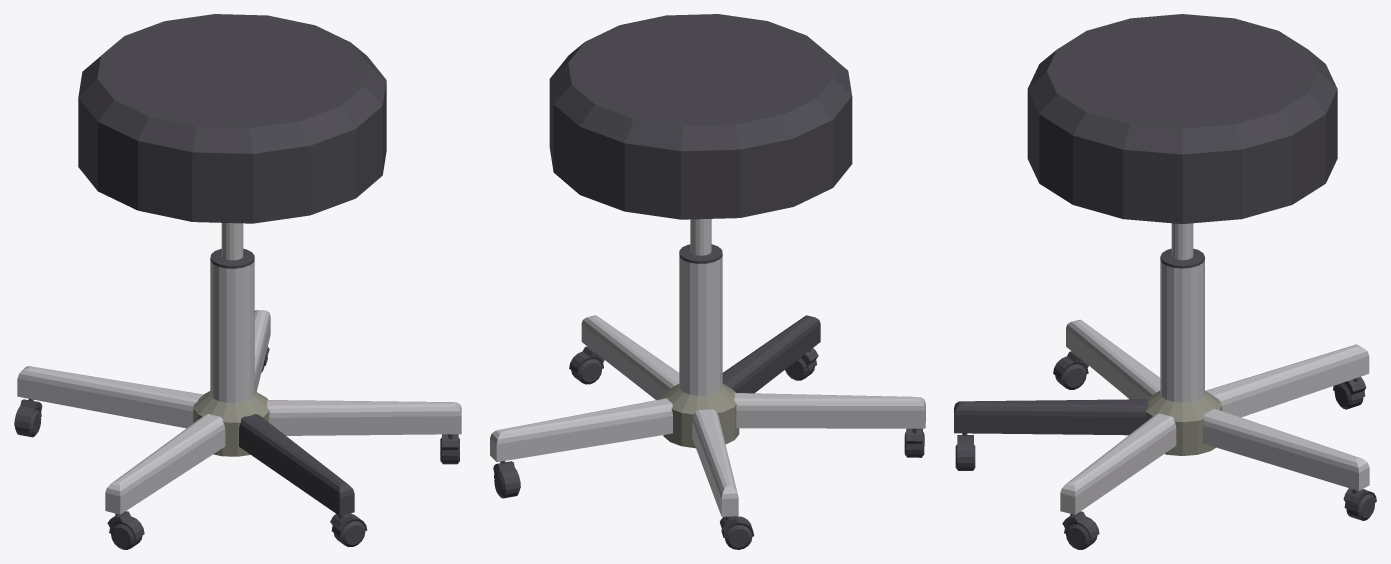
File: DoctorsStool.fbx
3 views of the same model, side by side, from view 1: azimuth 30°, elevation 25°; view 2: azimuth 150°, elevation 25°; view 3: azimuth 270°, elevation 25° (orthographic).
Parts seen in each view (by area): view 1: Cylinder; view 2: Cylinder; view 3: Cylinder.
Boxes of the visible parts, x1,y1,x2,y2 form: Cylinder: (14,14,461,549); Cylinder: (490,14,925,549); Cylinder: (954,14,1376,549).
Size of the model in its own units: 64.96 by 68.52 by 66.59.
